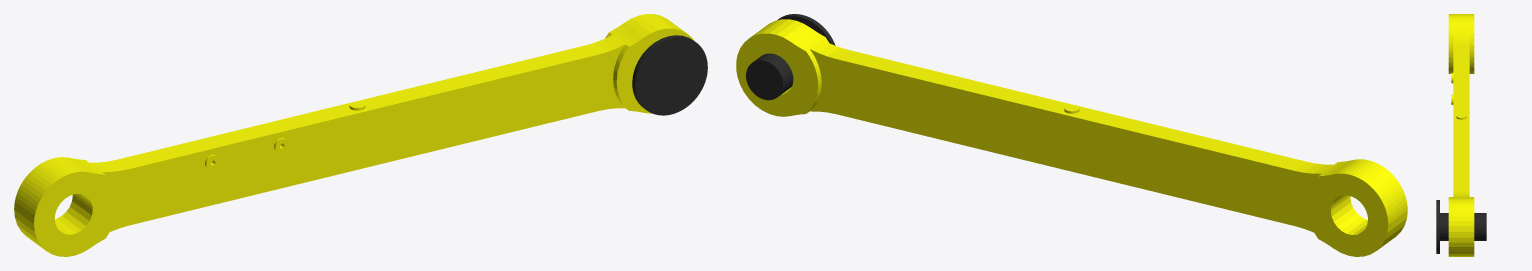
The picture shows the model from 3 angles, left to right: view 1: azimuth 30°, elevation 25°; view 2: azimuth 150°, elevation 25°; view 3: azimuth 270°, elevation 25°; orthographic projection. The views are drawn at different scales.
Parts seen in each view (by area): view 1: node; view 2: node; view 3: node.
Part boxes in pixels (bbox=[...]): node: bbox=[14, 14, 707, 256]; node: bbox=[736, 14, 1407, 256]; node: bbox=[1436, 14, 1486, 256].
Size of the model in its own units: 1929 by 230 by 317.
